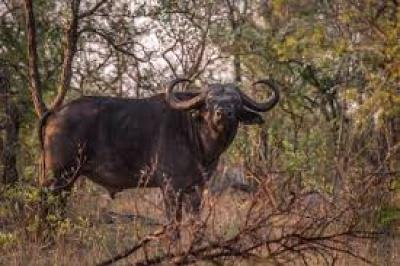buffalo: (40, 79, 278, 219)
